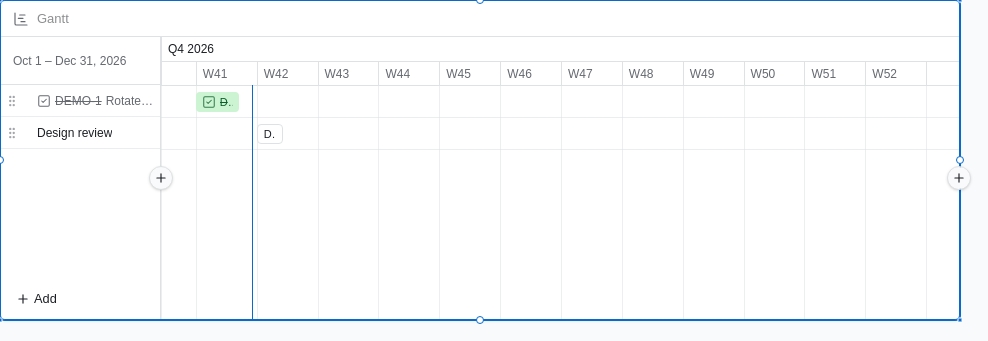
Scenario: renames a plain row in place
# The press captures the pointer, so the browser sends the double-click to the row itself.
Double-click the text "Design review" at (80, 133), box [1,117,160,149]
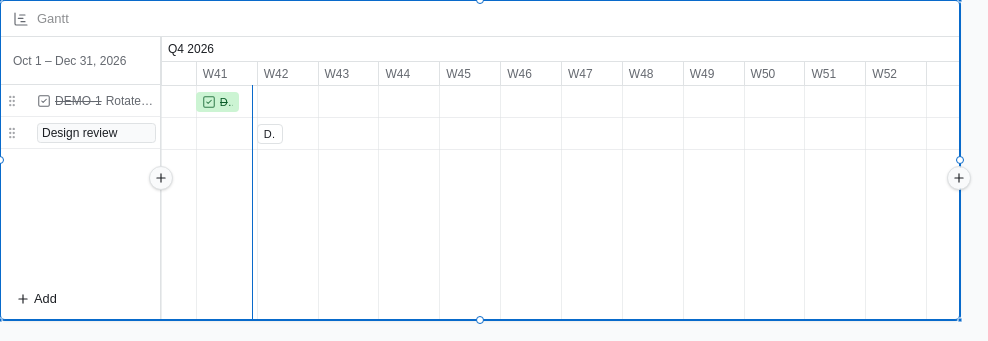
Replace the text in the field named "Row title" with "Security review" at (96, 132), box [37,122,156,142]
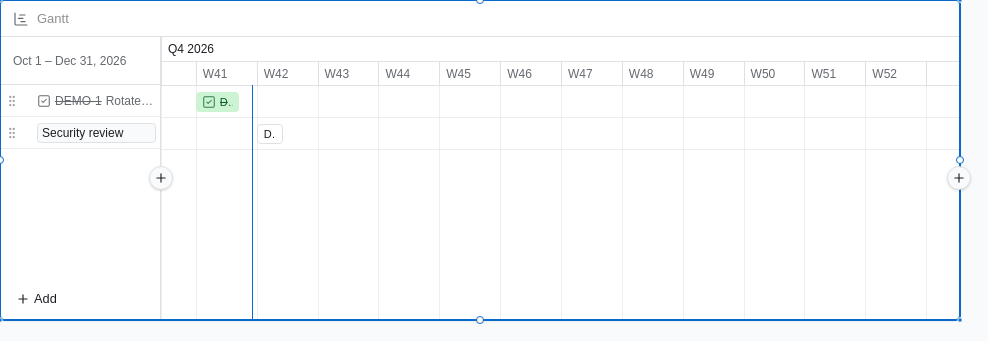
Leave the field named "Row title", box [37,122,156,142]
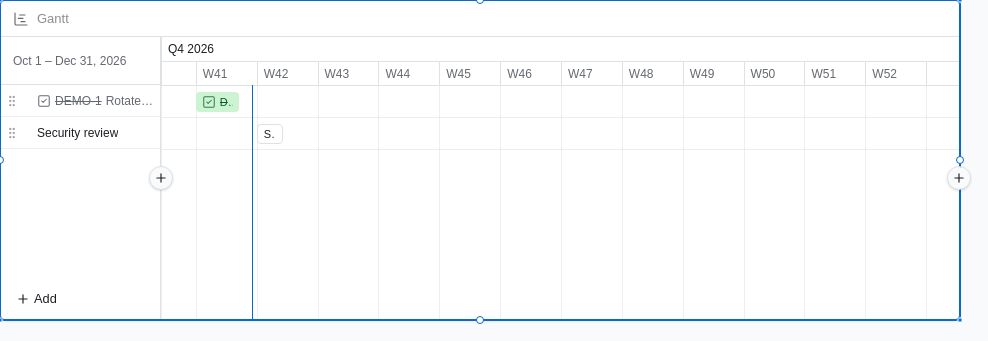
Expected: the text "Security review" below "Oct 1 – Dec 31, 2026" is shown, [37,126,118,140]
